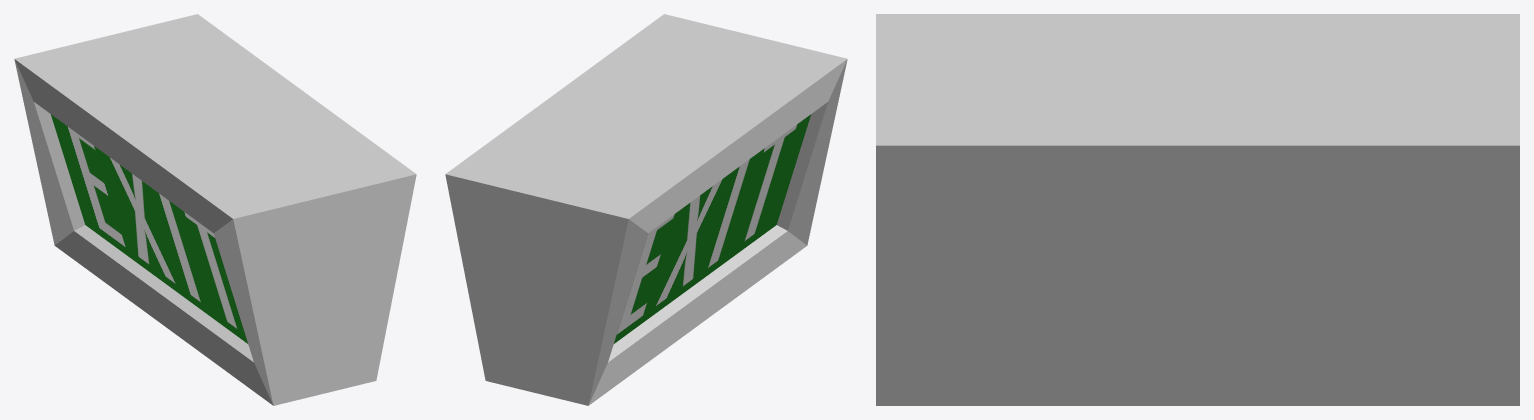
File: exit-sign.fbx
3 renders of one model, left to right at view 1: azimuth 30°, elevation 25°; view 2: azimuth 150°, elevation 25°; view 3: azimuth 270°, elevation 25°, orthographic. The views are drawn at different scales.
Parts seen in each view (by area): view 1: pCube1; view 2: pCube1; view 3: pCube1.
Part boxes in pixels (x1,y1,x2,y2): pCube1: (14, 14, 416, 405); pCube1: (445, 14, 847, 405); pCube1: (876, 14, 1519, 405).
Bounding box in the file's own units: 0.6015 × 0.6165 × 1.24.
Materials: 2 (1 with a texture image).
